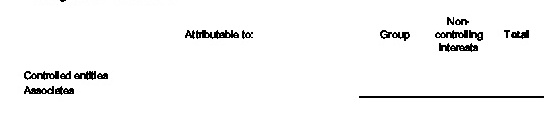table: (0, 0, 559, 114)
